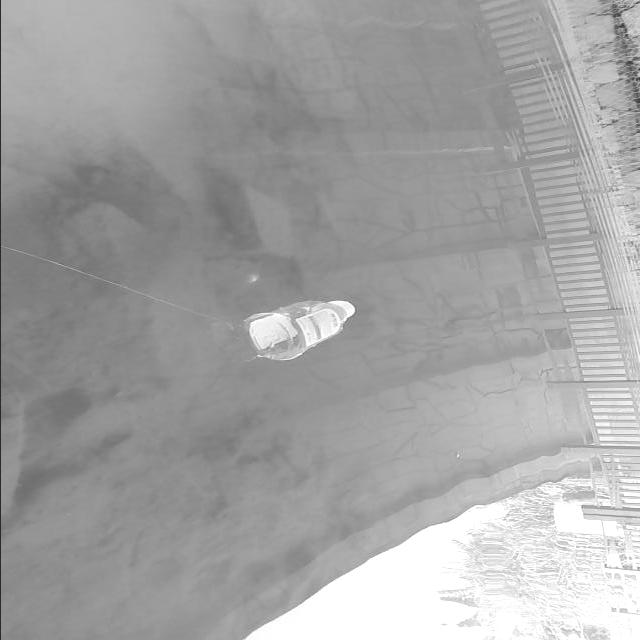bottle: (228, 280, 400, 377)
